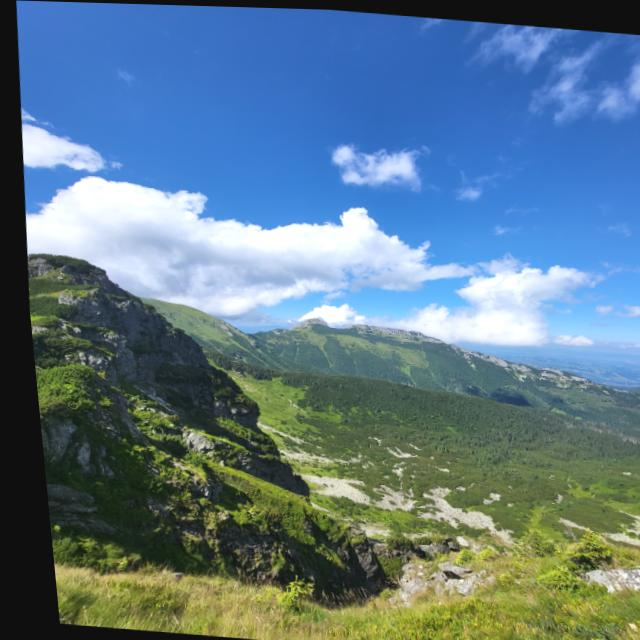Giewont: (237, 278, 398, 361)
